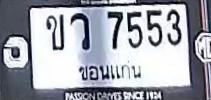3: (166, 8, 181, 45)
5: (146, 9, 163, 47), (126, 11, 143, 48)
7: (107, 10, 122, 48)
A02: (45, 13, 65, 51)
A37: (69, 12, 92, 51)
KKN: (78, 57, 143, 83)
